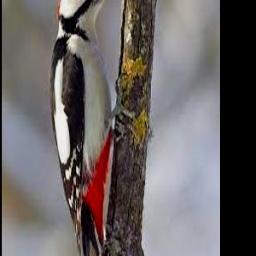Woodpecker: (49, 0, 130, 256)
